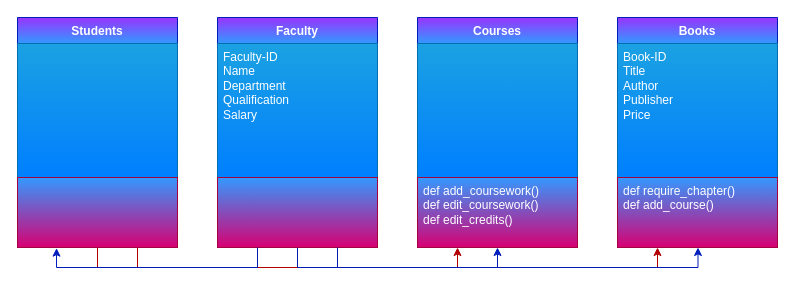
The diagram is 795 pixels wide and 293 high, and some of its shapes have lost their labels. The shapes that lost their labels are listed below. From the top down, each one's centre as x and y in pixels, then its label:
At point (97, 110): "Student-ID Name Major DOB GPA Dorm Year".
At point (497, 110): "Course-ID Name Department Credits".
At point (97, 212): "def add_student() def edit_student() def add_course() def mark_attendance()".
At point (297, 212): "def add_course() def schedule_meeting() def grade_student()".
